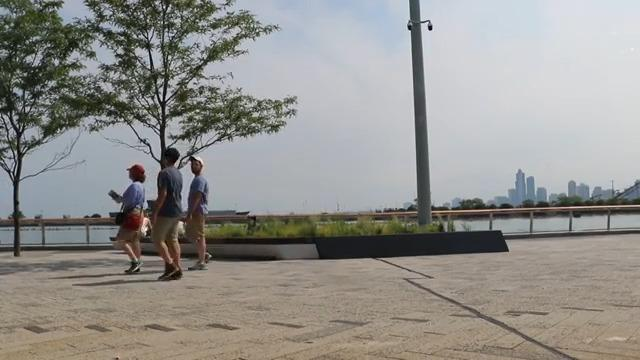no-helmet: (127, 164, 146, 183), (164, 148, 180, 168), (189, 154, 204, 175)
